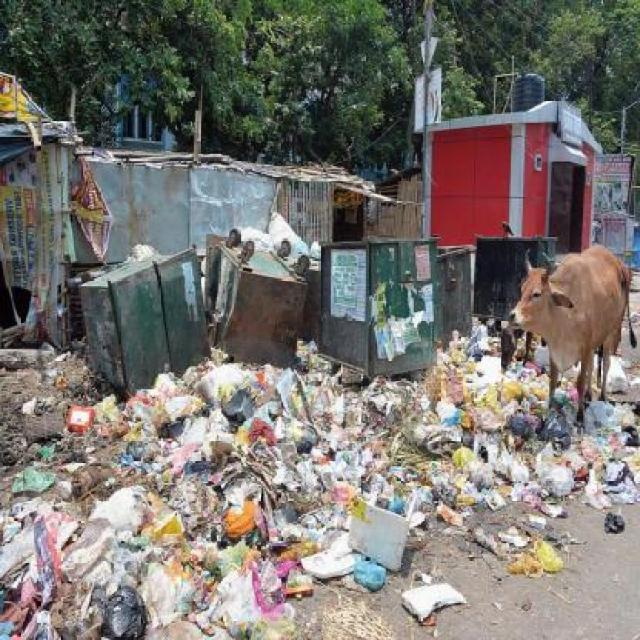garbage: (161, 365, 464, 639), (68, 232, 483, 396), (3, 347, 150, 640), (457, 325, 564, 575), (568, 400, 630, 549), (614, 359, 640, 406)
